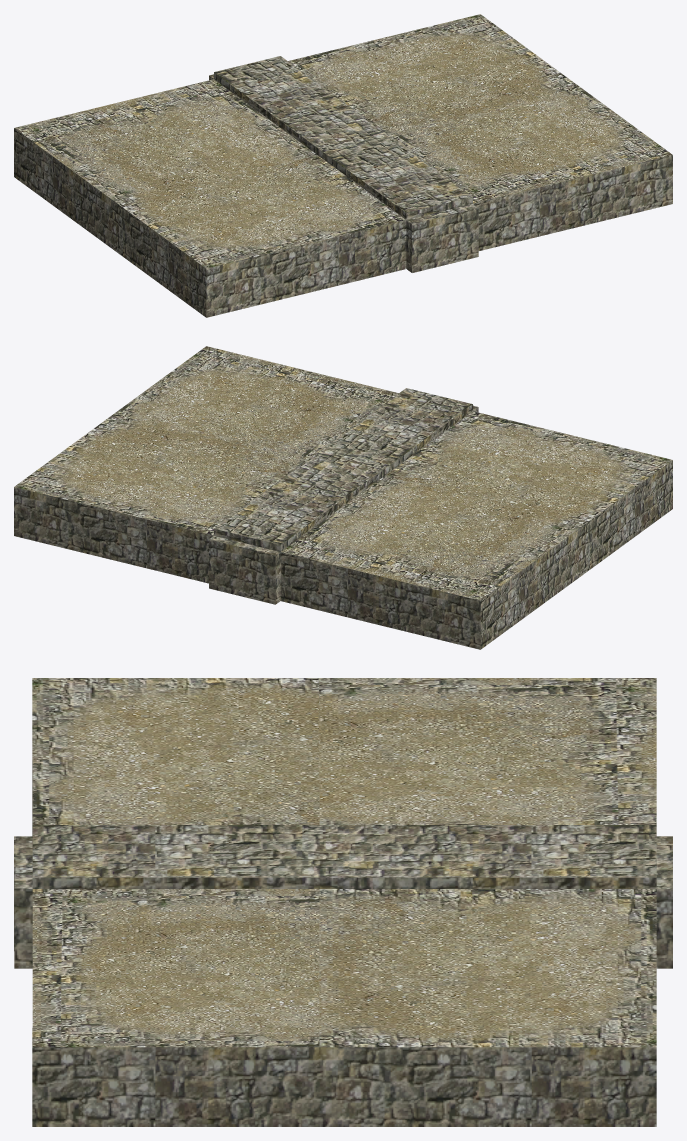
3 renders of one model, top to bottom at view 1: azimuth 30°, elevation 25°; view 2: azimuth 150°, elevation 25°; view 3: azimuth 270°, elevation 25°, orthographic. The views are drawn at different scales.
Parts seen in each view (by area): view 1: Object01.001; view 2: Object01.001; view 3: Object01.001.
Part boxes in pixels (x1,y1,x2,y2): Object01.001: (14, 14, 672, 317); Object01.001: (14, 346, 672, 649); Object01.001: (14, 678, 672, 1126).
Size of the model in its own units: 1435 by 165 by 1082.
2 materials, 2 textured.
